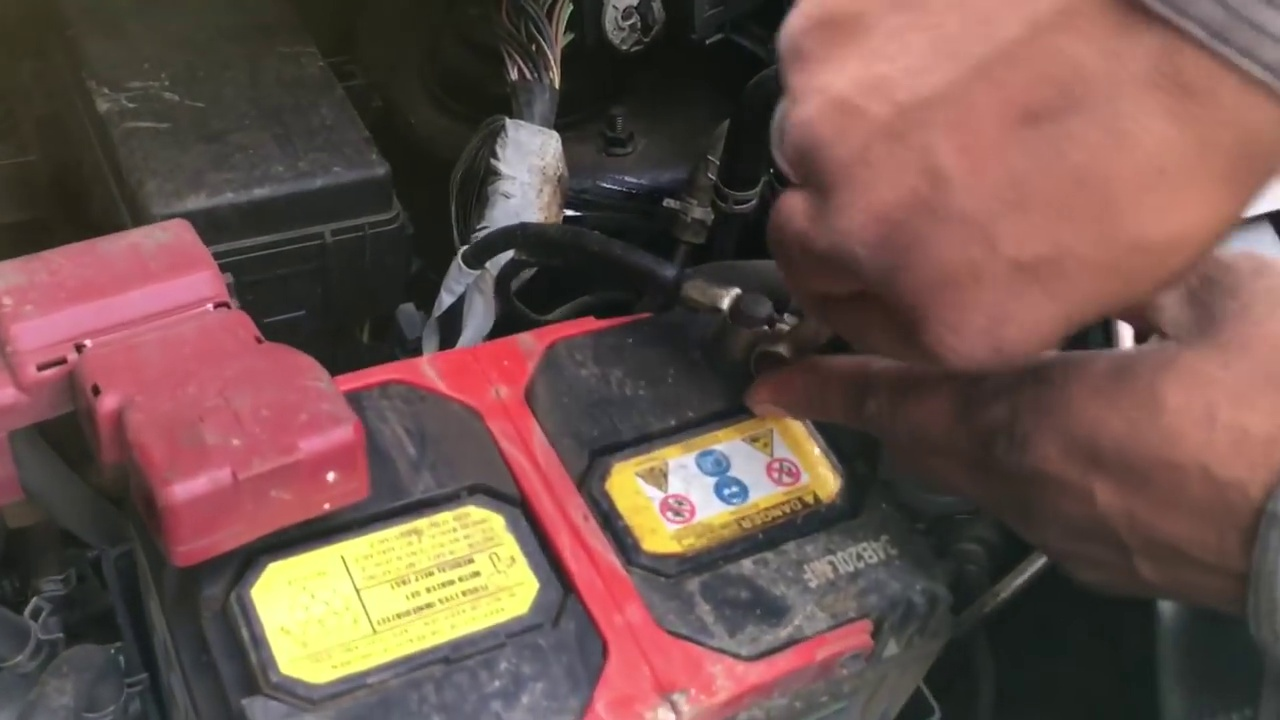battery: (128, 280, 990, 693)
neg_connected: (606, 225, 809, 382)
pos_connected: (28, 218, 370, 553)
